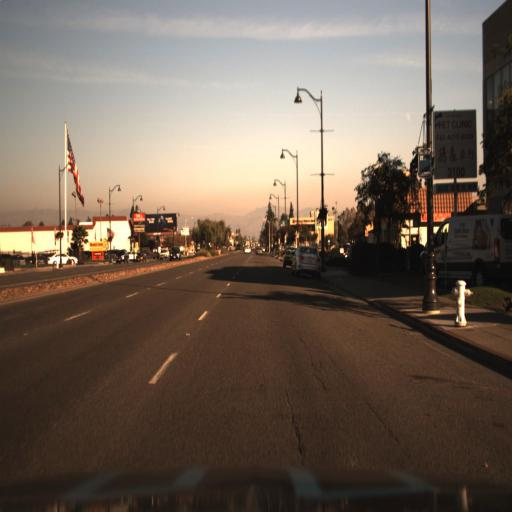car: (420, 208, 509, 288), (290, 242, 322, 280), (110, 244, 134, 267), (280, 242, 296, 276), (52, 252, 82, 268), (50, 252, 76, 267), (166, 242, 183, 264)
truck: (422, 208, 509, 290)
